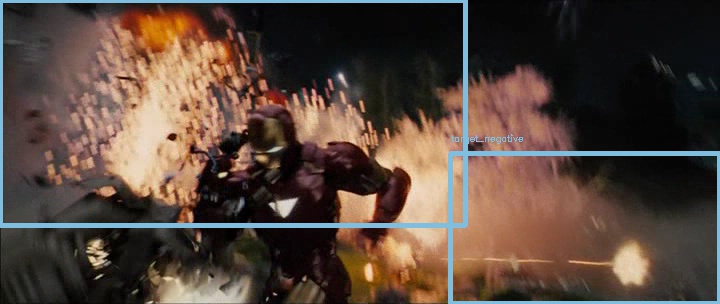person: (249, 107, 295, 175), (248, 107, 294, 175), (250, 107, 296, 175), (249, 106, 295, 174), (249, 108, 295, 176)
target_negative: (552, 3, 664, 252), (256, 274, 486, 295), (549, 214, 565, 304), (441, 25, 527, 36), (216, 291, 511, 293)
